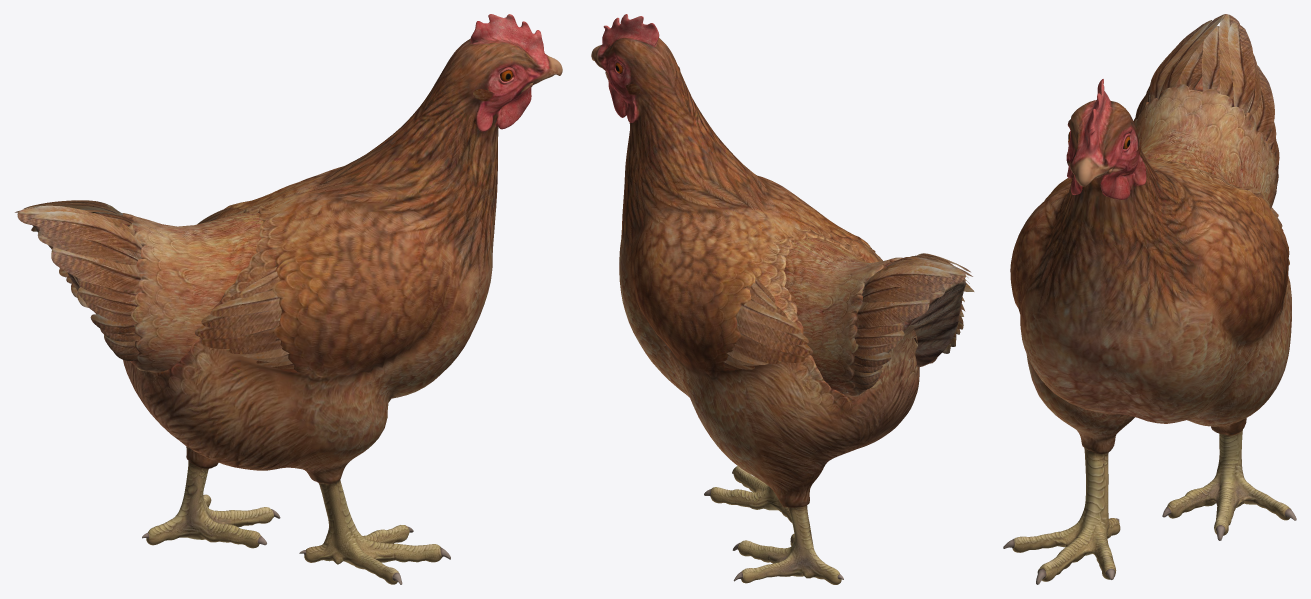
The model's file is chicken2.gltf.
3 renders of one model, left to right at view 1: azimuth 30°, elevation 25°; view 2: azimuth 150°, elevation 25°; view 3: azimuth 270°, elevation 25°, orthographic. The views are drawn at different scales.
Visible parts, largest first — view 1: node_id53_0; view 2: node_id53_0; view 3: node_id53_0.
Boxes of the visible parts, bbox=[...] form: node_id53_0: bbox=[15, 14, 562, 584]; node_id53_0: bbox=[591, 14, 974, 584]; node_id53_0: bbox=[1003, 14, 1296, 584].
Size of the model in its own units: 1.05 by 1.07 by 0.5191.
Materials: 1 (1 with a texture image).
